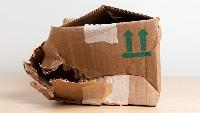damaged package: (24, 36, 106, 100), (53, 4, 158, 29)
undamaged: (17, 2, 164, 109)
